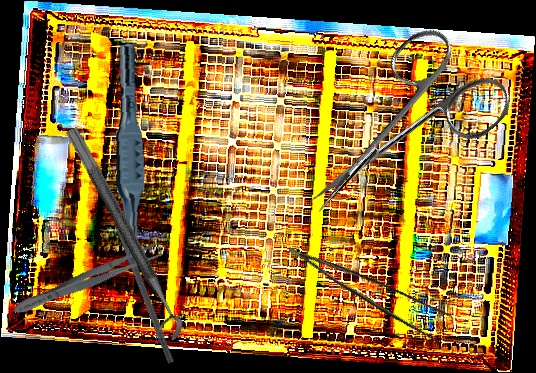Dressing Forceps: (9, 239, 166, 320)
Fixation Ring: (48, 125, 188, 349)
Hook Surgical: (104, 195, 177, 364)
Iris Scissors: (274, 13, 520, 254)
Tissue Forceps: (287, 222, 458, 349), (105, 43, 152, 267)
